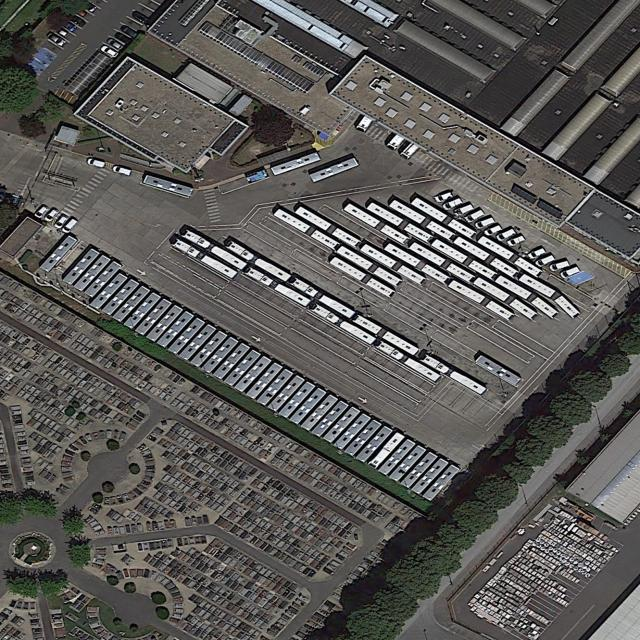large-vehicle: (224, 239, 293, 283), (517, 273, 583, 319), (472, 277, 539, 322), (446, 279, 516, 322), (495, 274, 560, 320), (360, 243, 428, 286), (273, 208, 341, 251), (352, 313, 420, 356), (171, 237, 239, 280), (431, 238, 499, 281), (182, 228, 248, 272), (478, 235, 544, 279), (295, 206, 362, 249), (411, 197, 478, 240), (310, 302, 377, 345), (367, 202, 435, 244), (244, 265, 312, 307), (344, 203, 411, 245), (390, 200, 457, 242), (337, 246, 404, 288), (384, 243, 451, 285), (290, 277, 357, 319), (376, 340, 442, 382), (454, 237, 520, 279), (409, 242, 476, 283), (420, 354, 487, 395), (331, 256, 396, 298), (399, 451, 440, 489), (40, 235, 79, 274), (333, 412, 372, 451), (167, 317, 207, 355), (322, 406, 362, 444), (388, 445, 428, 483), (475, 355, 522, 387), (123, 292, 162, 330), (73, 254, 112, 292), (223, 349, 262, 387), (146, 304, 184, 343), (201, 336, 240, 374), (266, 375, 306, 412), (233, 356, 273, 393), (112, 286, 152, 323), (156, 311, 196, 348), (310, 400, 350, 437), (246, 362, 284, 400), (256, 368, 294, 406), (62, 248, 100, 286), (190, 330, 228, 368), (378, 438, 416, 476), (84, 261, 123, 298), (89, 273, 128, 310), (134, 299, 173, 336), (179, 324, 218, 361), (212, 343, 251, 380), (300, 395, 339, 432), (344, 419, 383, 456), (355, 426, 394, 463), (410, 458, 449, 495), (278, 382, 316, 419), (102, 279, 140, 316), (289, 388, 327, 425), (368, 432, 406, 469), (422, 465, 460, 502), (310, 157, 359, 183), (271, 152, 321, 176), (143, 174, 194, 197)
small-vehicle: (559, 264, 587, 280), (44, 30, 67, 48), (463, 207, 487, 224), (534, 254, 559, 269), (42, 206, 62, 223), (60, 217, 80, 234), (105, 37, 126, 53), (99, 44, 120, 60), (548, 259, 572, 273), (453, 203, 476, 217), (474, 216, 497, 230), (495, 228, 518, 242), (32, 204, 52, 220), (113, 31, 134, 46), (66, 13, 87, 28), (442, 197, 464, 211), (526, 246, 548, 260), (433, 191, 456, 204), (85, 156, 106, 170), (111, 164, 133, 177), (506, 235, 528, 248), (130, 10, 149, 25), (119, 24, 139, 38), (53, 213, 70, 229), (483, 225, 504, 237), (60, 19, 78, 33), (52, 25, 70, 38)
